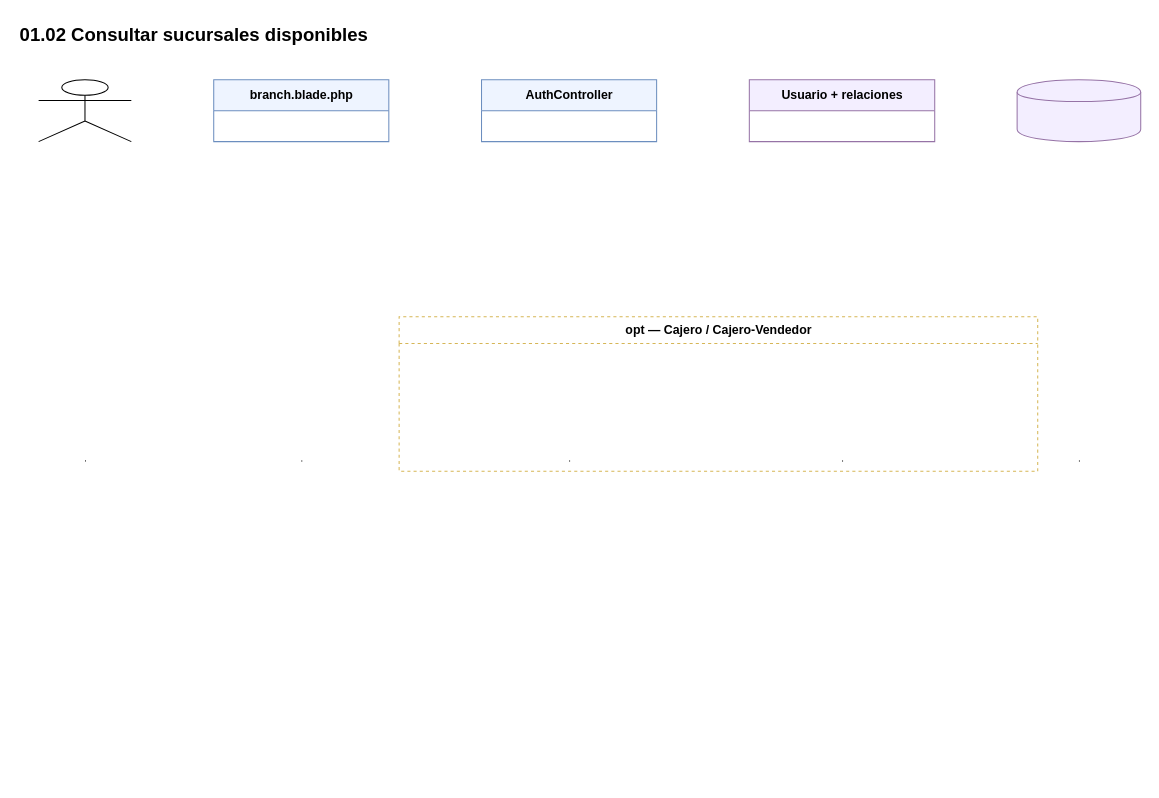
This 1159x798 diagram has some shape labels left out. Each missing label, with the centre of its shape:
BD: (x=1078, y=110)
Usuario: (x=84, y=110)
